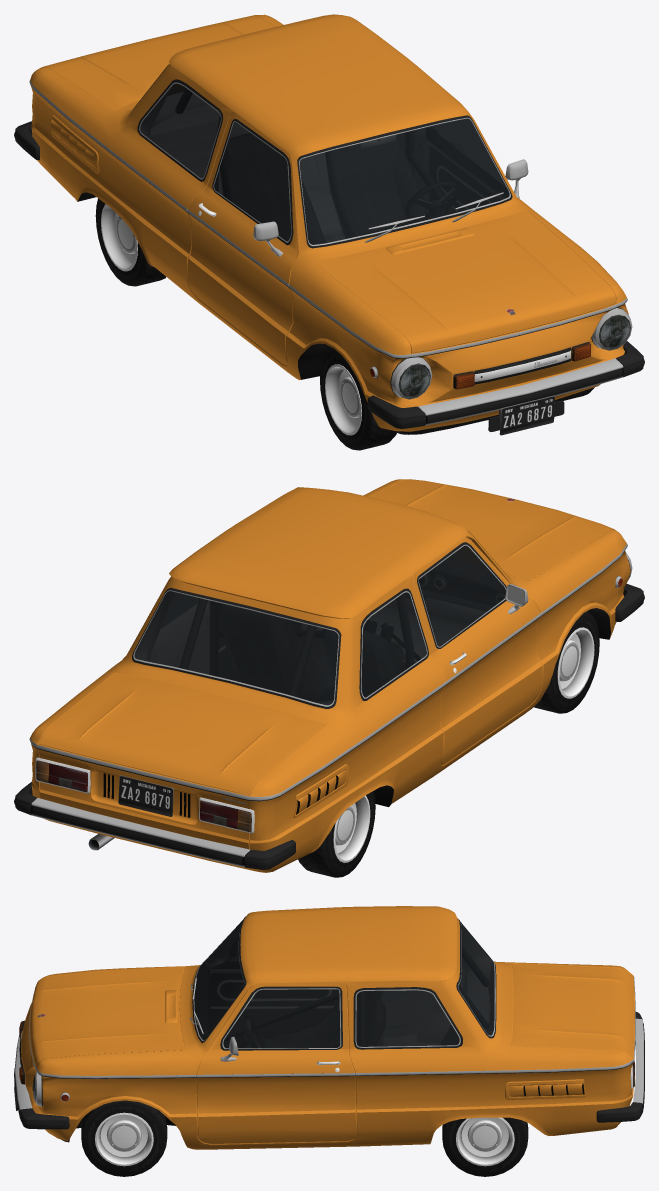
The model's file is ukrainer-79-low-poly-model-7129af.glb.
The picture shows the model from 3 angles, top to bottom: view 1: azimuth 30°, elevation 25°; view 2: azimuth 150°, elevation 25°; view 3: azimuth 270°, elevation 25°; orthographic projection. The views are drawn at different scales.
Visible parts, largest first — view 1: body, wheel-front-right, wheel-back-right; view 2: body, wheel-front-right, wheel-back-right; view 3: body, wheel-front-left, wheel-back-left.
Boxes of the visible parts, x1=… form: body: x1=14, y1=14, x2=644, y2=435; wheel-front-right: x1=320, y1=348, x2=396, y2=450; wheel-back-right: x1=95, y1=198, x2=165, y2=286; body: x1=14, y1=479, x2=644, y2=872; wheel-front-right: x1=534, y1=611, x2=599, y2=713; wheel-back-right: x1=298, y1=791, x2=375, y2=877; body: x1=14, y1=906, x2=644, y2=1149; wheel-front-left: x1=81, y1=1100, x2=167, y2=1176; wheel-back-left: x1=442, y1=1117, x2=528, y2=1176.
Bounding box in the file's own units: 1.94 × 1.67 × 4.84.
Materials: 8 (7 with a texture image).
